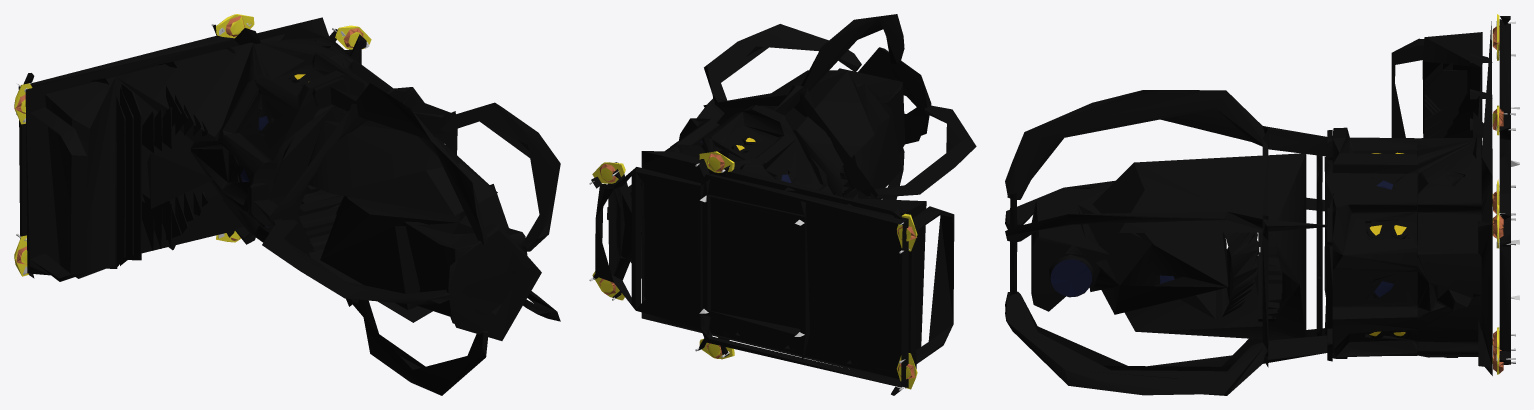
File: base_cam.obj
3 views of the same model, side by side, from view 1: azimuth 30°, elevation 25°; view 2: azimuth 150°, elevation 25°; view 3: azimuth 270°, elevation 25° (orthographic). The views are drawn at different scales.
Visible parts, largest first — view 1: base_cam; view 2: base_cam; view 3: base_cam.
Boxes of the visible parts, x1,y1,x2,y2 form: base_cam: [14, 14, 560, 395]; base_cam: [589, 14, 976, 395]; base_cam: [1005, 14, 1519, 395].
Bounding box in the file's own units: 0.1903 × 0.138 × 0.2165.
